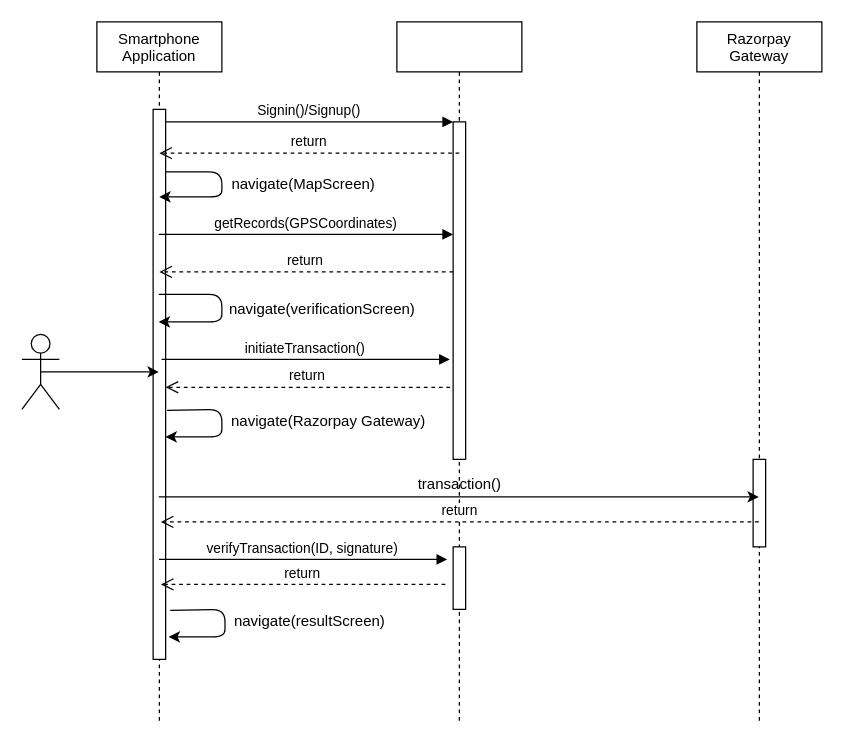
Image size: 844x744. Some labels were removed from this diagram. Here are the shapes that lost their labels. From the top down, the box of each, then its label:
(21, 333, 59, 409): User
(396, 21, 522, 722): LRSP Server
